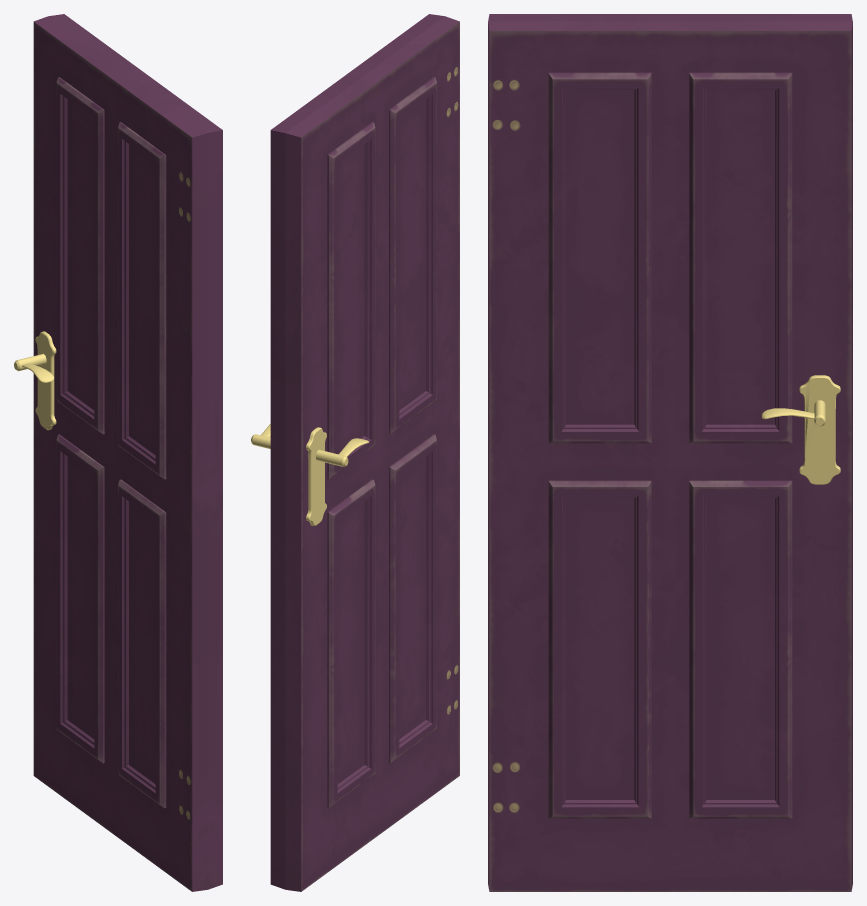
File: Door.fbx
3 views of the same model, side by side, from view 1: azimuth 30°, elevation 25°; view 2: azimuth 150°, elevation 25°; view 3: azimuth 270°, elevation 25° (orthographic). The views are drawn at different scales.
Parts seen in each view (by area): view 1: Door; view 2: Door; view 3: Door.
Boxes of the visible parts, x1,y1,x2,y2 form: Door: (14, 14, 222, 891); Door: (251, 14, 459, 891); Door: (488, 14, 852, 891).
Bounding box in the file's own units: 30.09 × 232 × 88.63.
1 material, 1 textured.
